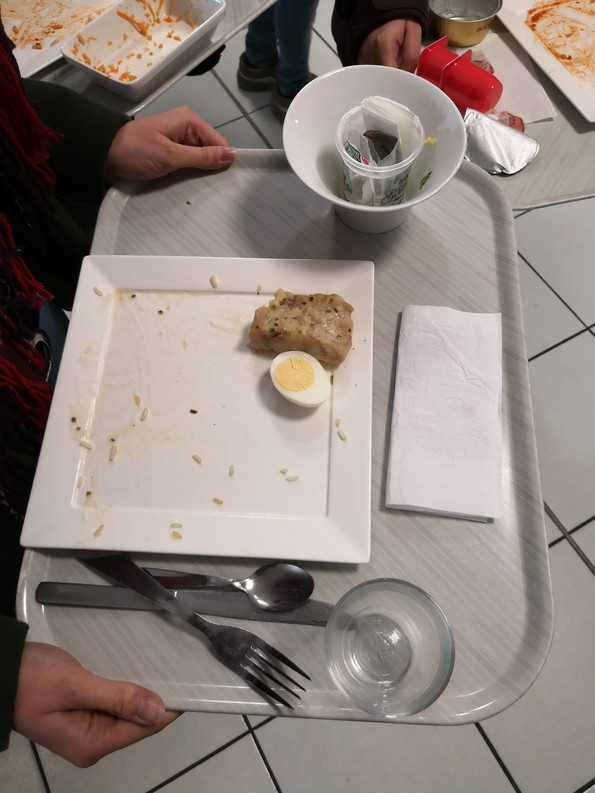cup: (326, 572, 462, 738)
cutlery: (29, 548, 329, 724)
orga: (232, 290, 352, 409)
trash: (380, 296, 523, 539), (413, 1, 549, 178), (329, 98, 424, 208)
